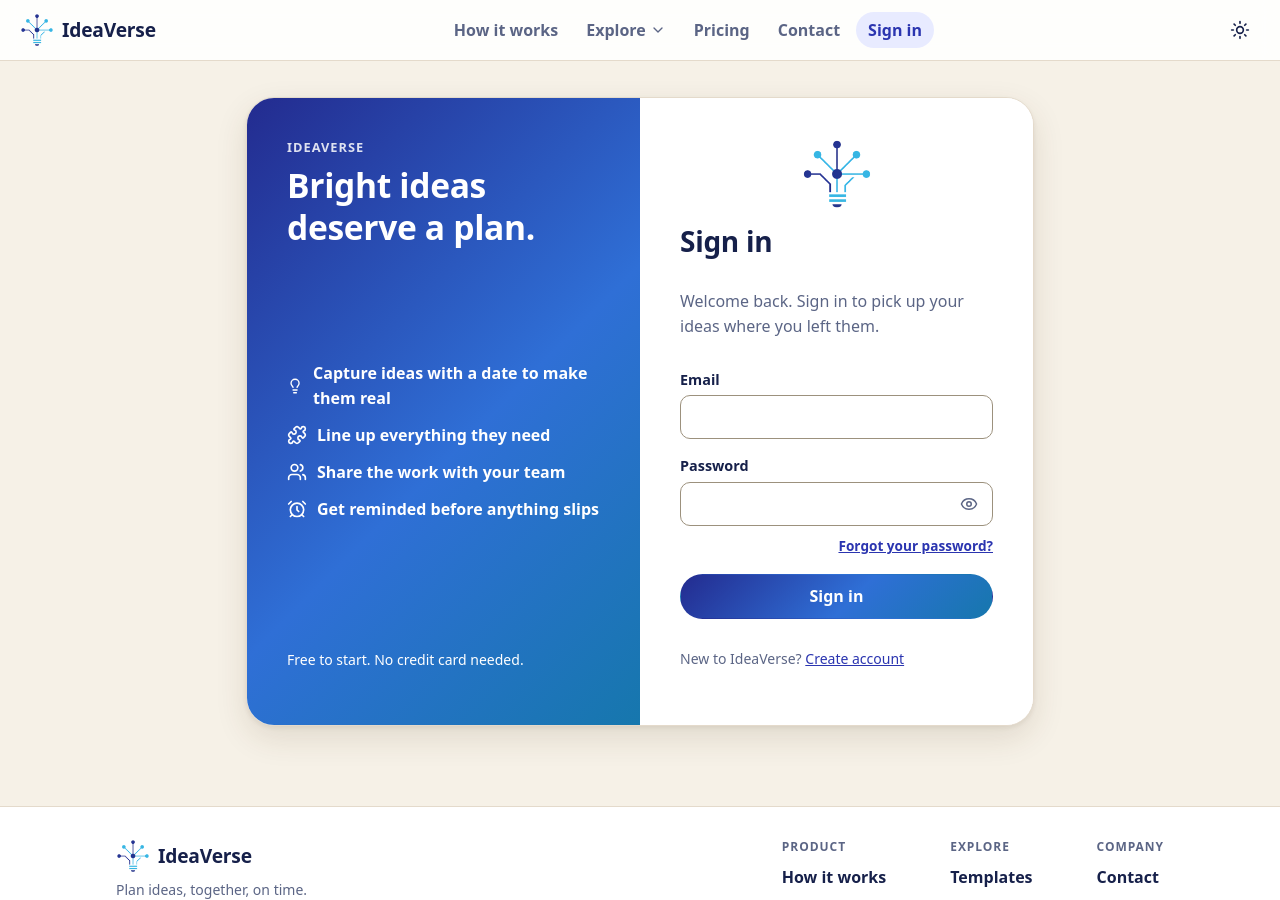
Test: Registration and confirmation › explains an unconfirmed sign-in and resends the link
Type "new@example.com" into the field labelled "Email". click: (836, 417)
box: [680,395,993,439]
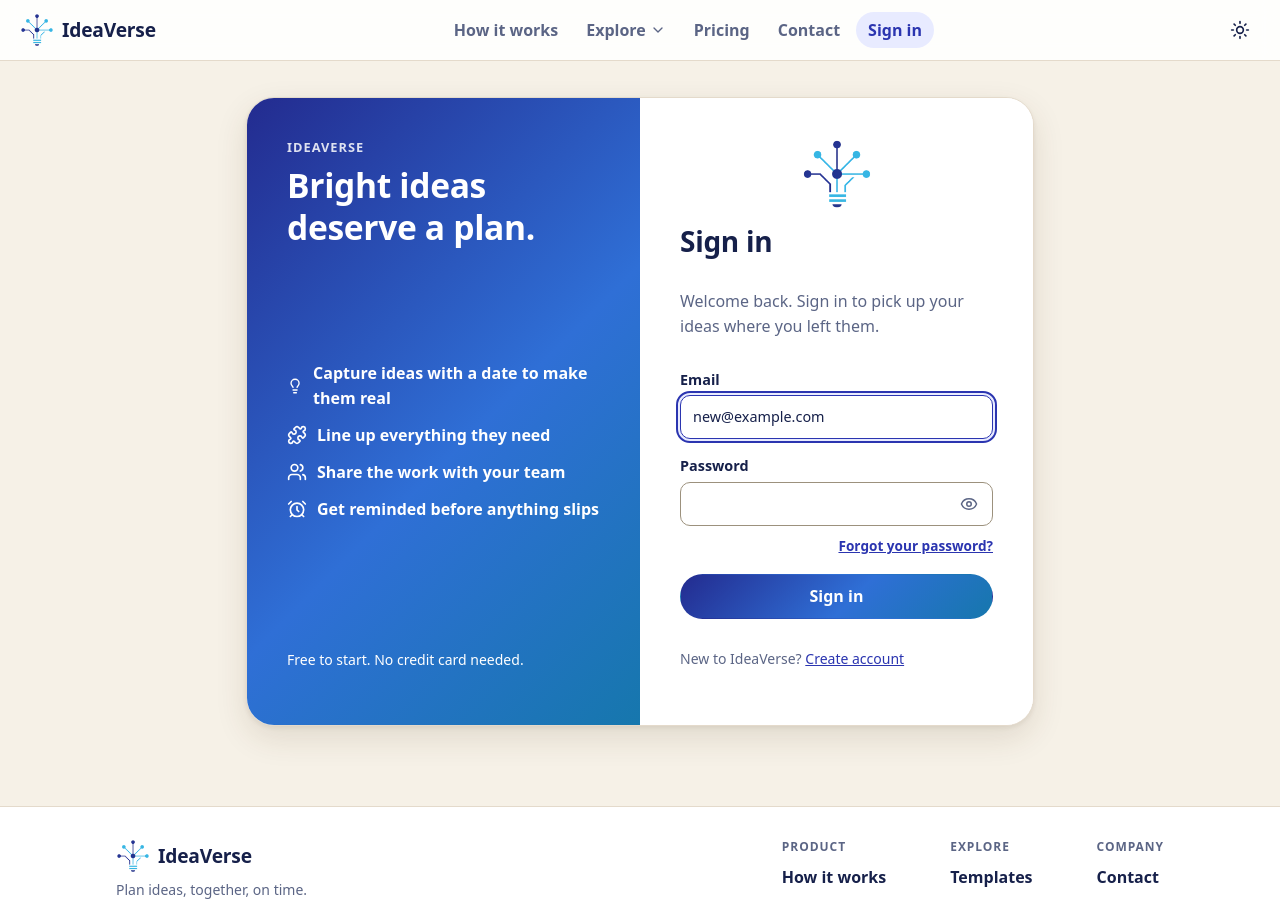
Type "Passw0rd!" into the password field labelled "Password". click: (836, 504)
box: [680,482,993,526]
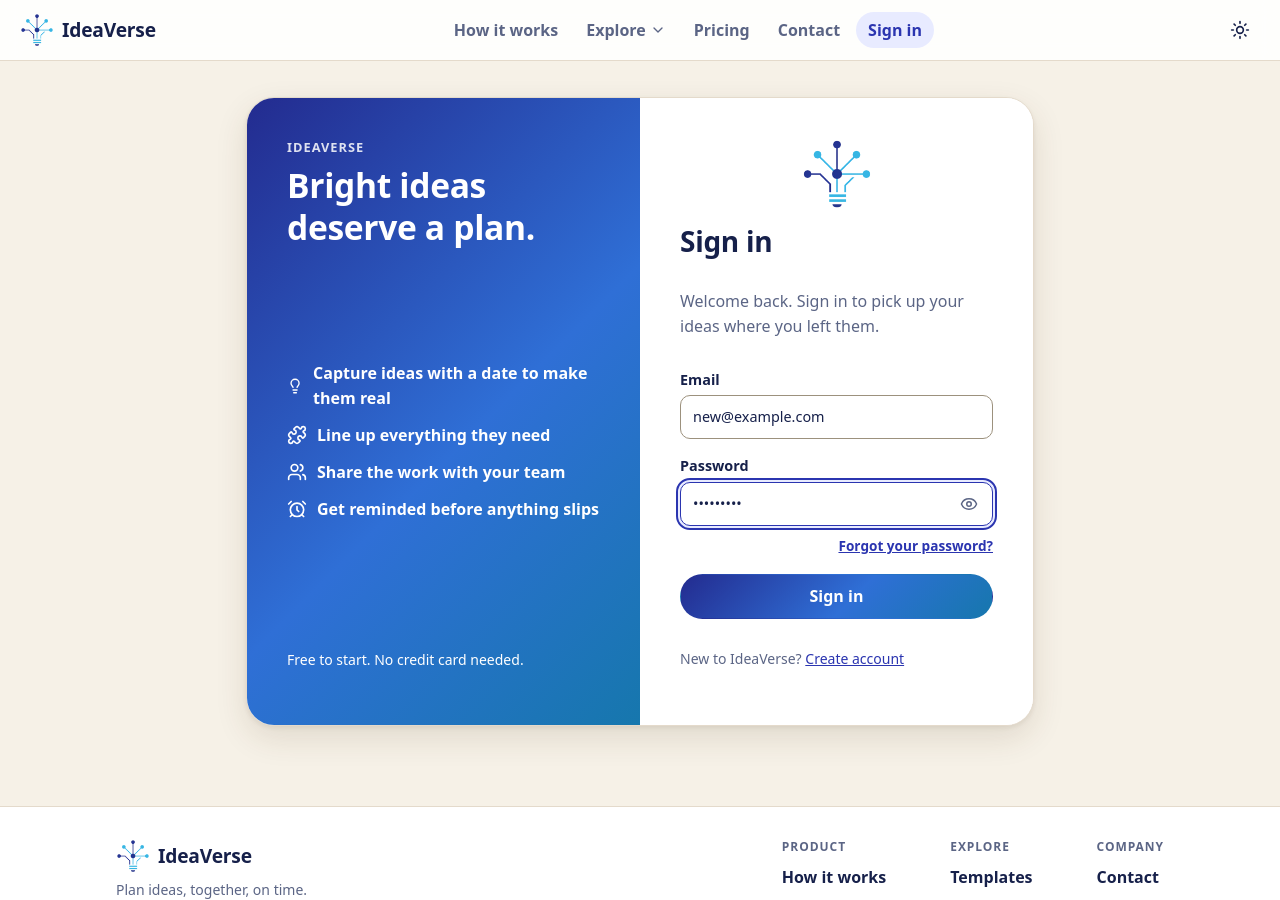
Click the button "Sign in". click: click(836, 596)
box: [680,574,993,619]
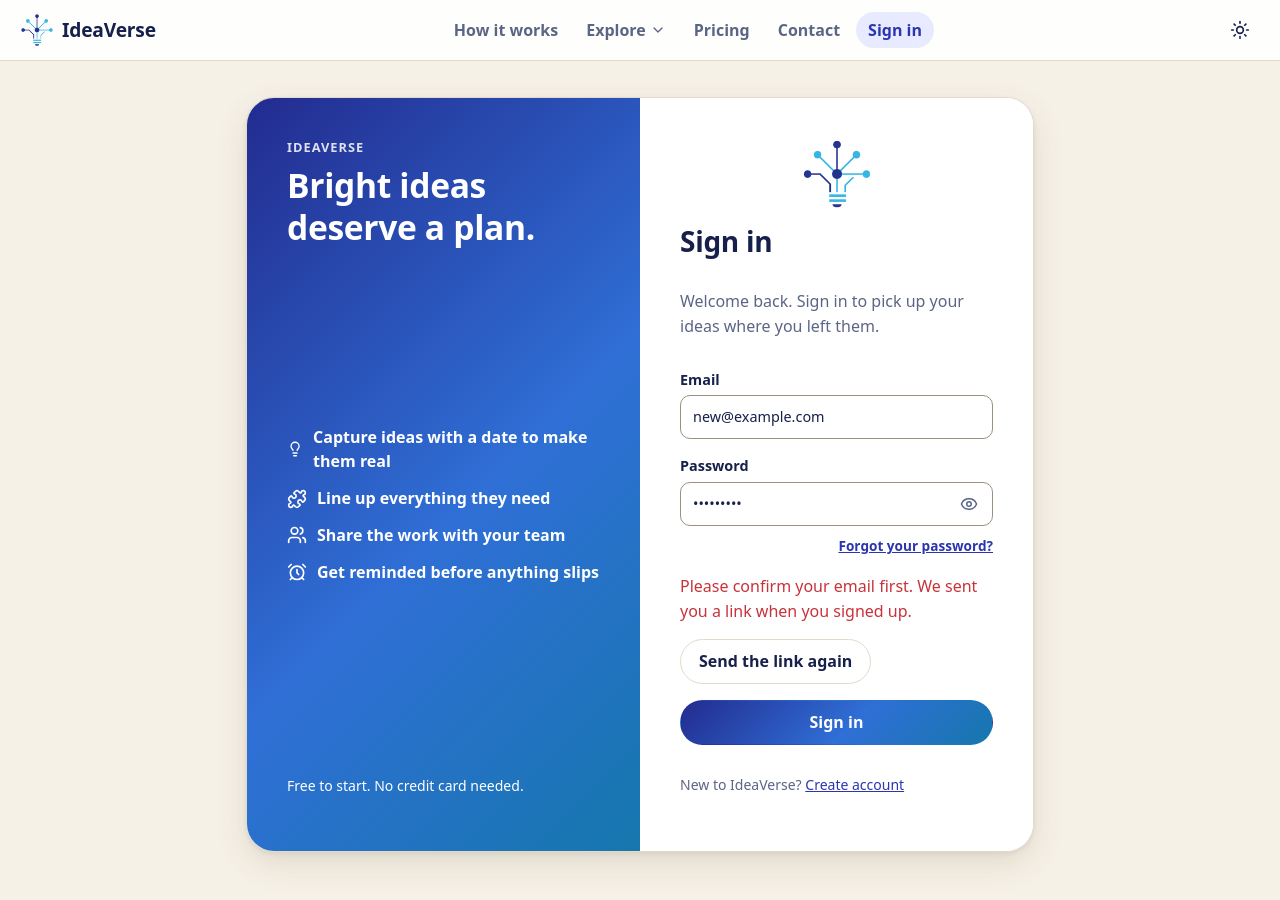
Check: the message shows "Please confirm your email first", box [680,575,977,622]
Click the button "Send the link again". click: click(776, 662)
box: [680,639,871,684]
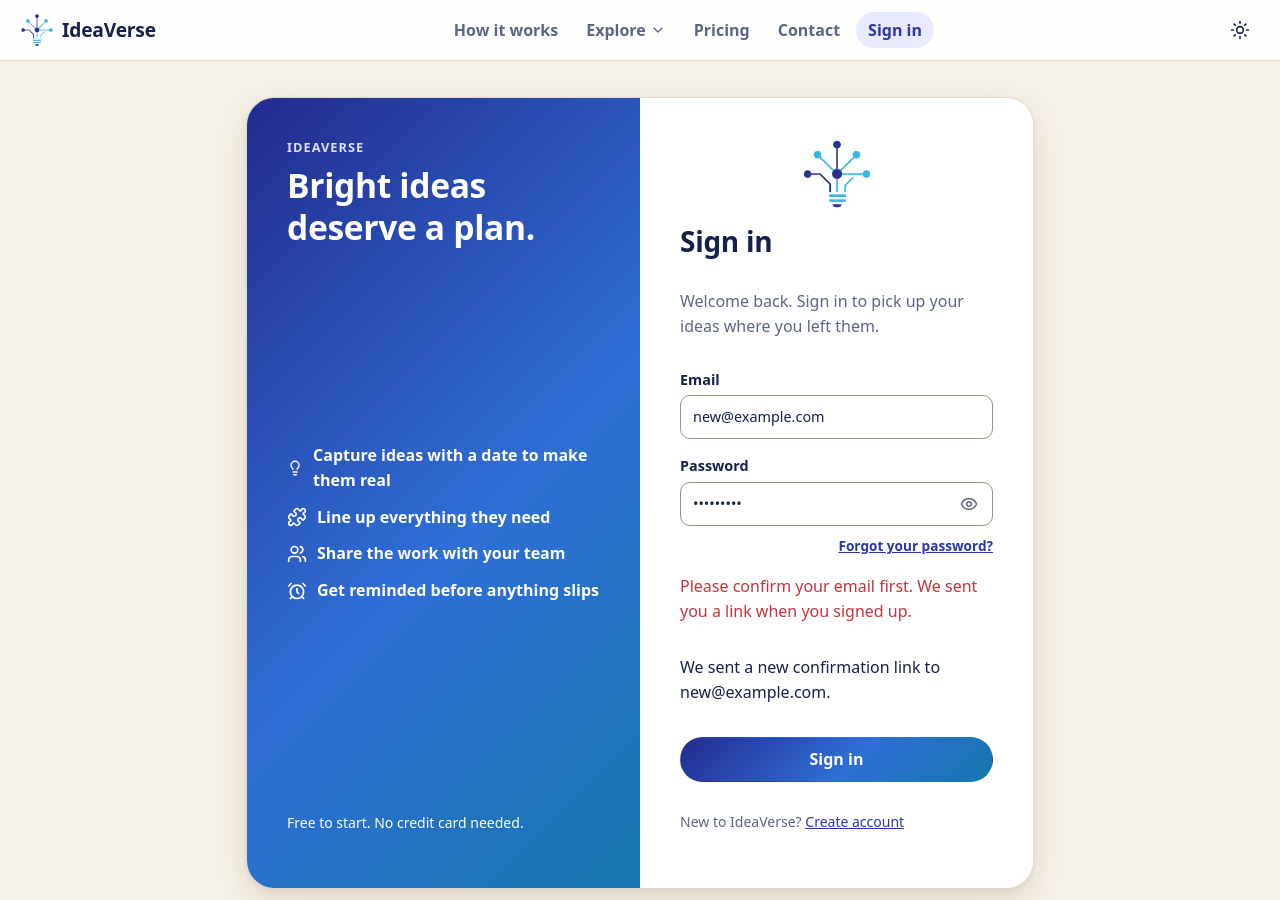
Check: the text "We sent a new confirmation link to new@example.com." is shown, box [680,656,940,703]
